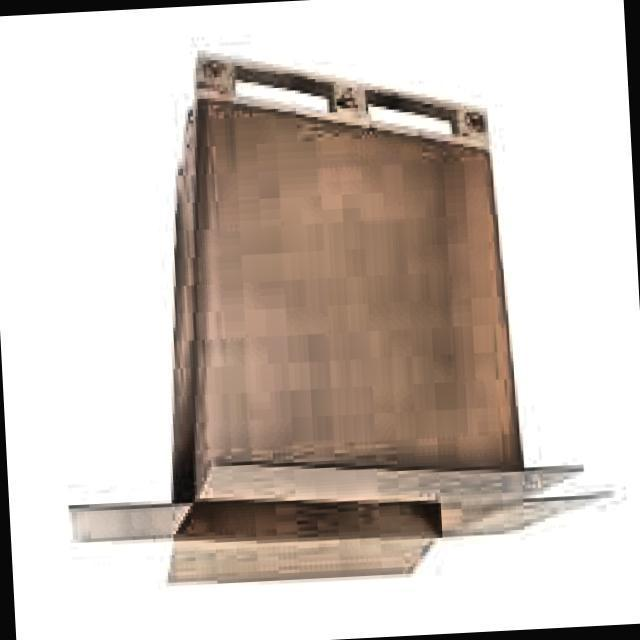cardboard: (48, 38, 618, 598)
